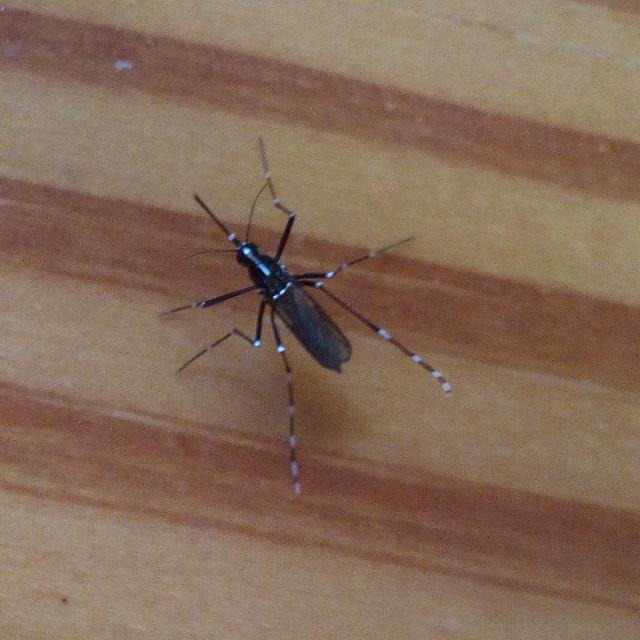albopictus: (159, 131, 433, 445)
